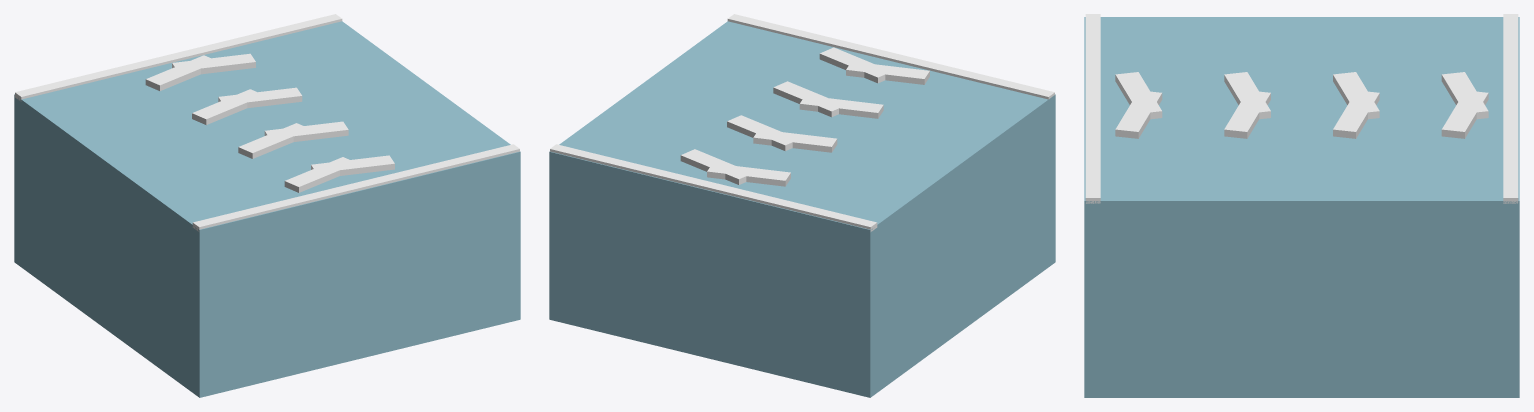
File: ThinConveyor_TopHalf.glb
The picture shows the model from 3 angles, left to right: view 1: azimuth 30°, elevation 25°; view 2: azimuth 150°, elevation 25°; view 3: azimuth 270°, elevation 25°; orthographic projection. The views are drawn at different scales.
Parts seen in each view (by area): view 1: ThinConveyor_TopHalf_body, rail_-0.007, rail_0.007, chev_1_-1.007, chev_2_-1.007, chev_0_1.007, chev_3_1.007, chev_3_-1.007, chev_0_-1.007, chev_2_1.007, chev_1_1.007; view 2: ThinConveyor_TopHalf_body, rail_0.007, rail_-0.007, chev_2_1.007, chev_1_1.007, chev_0_1.007, chev_3_1.007, chev_3_-1.007, chev_0_-1.007, chev_1_-1.007, chev_2_-1.007; view 3: ThinConveyor_TopHalf_body, rail_0.007, rail_-0.007, chev_0_1.007, chev_3_1.007, chev_1_1.007, chev_2_1.007, chev_0_-1.007, chev_3_-1.007, chev_1_-1.007, chev_2_-1.007.
Part boxes in pixels (x1,y1,x2,y2): ThinConveyor_TopHalf_body: (14,21,520,397); rail_-0.007: (192,144,519,231); rail_0.007: (15,14,342,101); chev_1_-1.007: (264,121,348,141); chev_2_-1.007: (218,87,302,108); chev_0_1.007: (284,157,356,192); chev_3_1.007: (145,55,217,90); chev_3_-1.007: (172,53,255,74); chev_0_-1.007: (311,155,394,175); chev_2_1.007: (192,89,256,124); chev_1_1.007: (238,123,303,158); ThinConveyor_TopHalf_body: (549,21,1055,397); rail_0.007: (550,144,877,231); rail_-0.007: (727,14,1054,99); chev_2_1.007: (753,129,837,152); chev_1_1.007: (799,95,883,118); chev_0_1.007: (846,61,929,84); chev_3_1.007: (707,163,790,186); chev_3_-1.007: (680,149,752,184); chev_0_-1.007: (819,47,891,83); chev_1_-1.007: (773,81,844,117); chev_2_-1.007: (727,115,792,151); ThinConveyor_TopHalf_body: (1084,17,1519,397); rail_0.007: (1503,14,1518,203); rail_-0.007: (1085,14,1100,203); chev_0_1.007: (1115,72,1162,119); chev_3_1.007: (1441,72,1488,119); chev_1_1.007: (1224,72,1270,119); chev_2_1.007: (1333,72,1379,119); chev_0_-1.007: (1115,91,1162,138); chev_3_-1.007: (1441,91,1488,138); chev_1_-1.007: (1224,91,1270,138); chev_2_-1.007: (1333,91,1379,138).
Size of the model in its own units: 1 by 0.5175 by 1.
